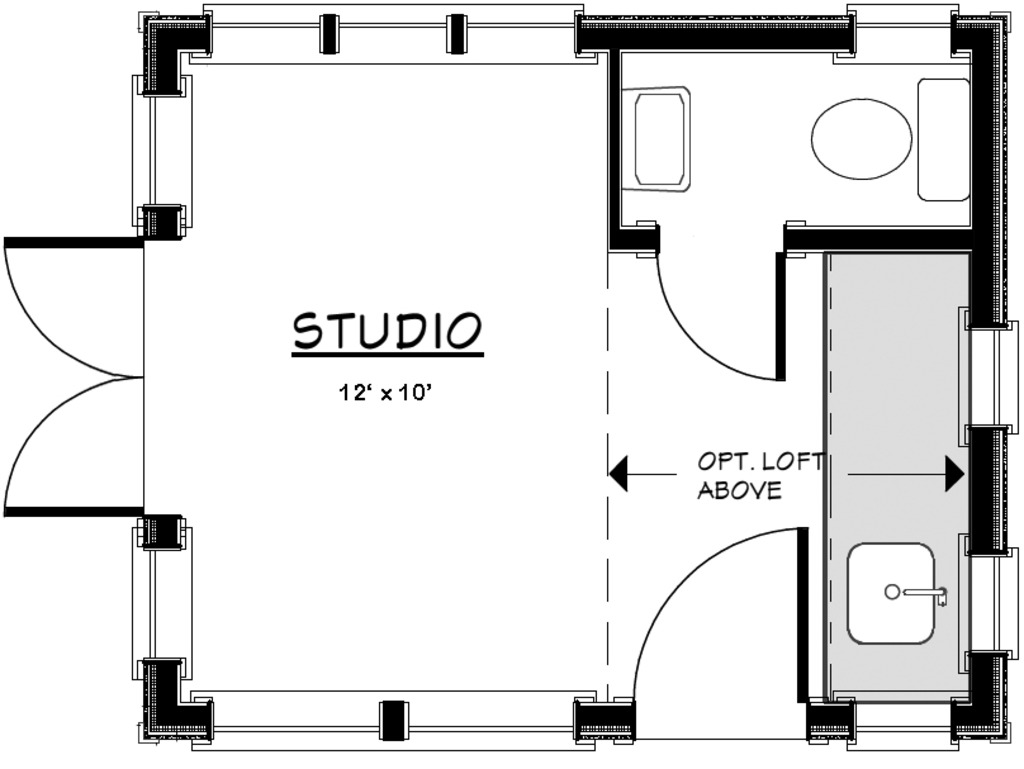door: (609, 517, 822, 741), (8, 236, 147, 522), (647, 229, 801, 393)
large_sink: (770, 75, 975, 200)
sink: (829, 508, 954, 673)
small_sink: (619, 78, 697, 200)
window: (129, 63, 196, 248), (114, 531, 200, 672), (958, 305, 1024, 462), (966, 538, 1024, 661)
